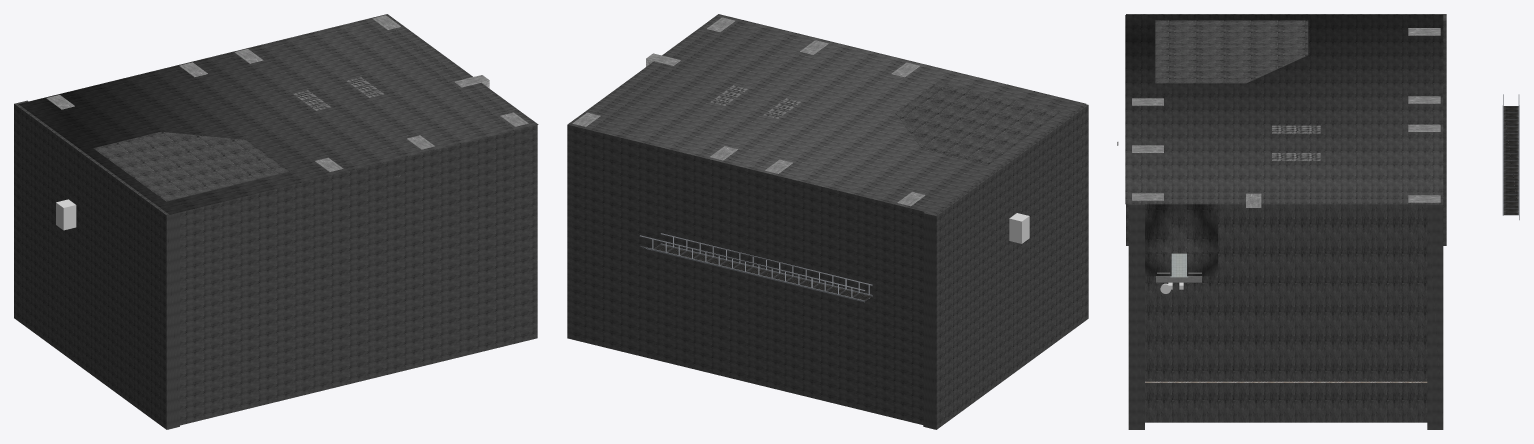
File: scp106nerroom.fbx
3 renders of one model, left to right at view 1: azimuth 30°, elevation 25°; view 2: azimuth 150°, elevation 25°; view 3: azimuth 270°, elevation 25°, orthographic. The views are drawn at different scales.
Visible parts, largest first — view 1: Cube.001, Main, Cube.015, Cube.003, Cube.017; view 2: Cube.002, Main, Cube.015, Cube.003, Main.010, Cube.017; view 3: Main, Cube.003, Cube.002, Cube.001, Main.010, Cube.015, Main.005.
Part boxes in pixels (x1,y1,x2,y2): Cube.001: (180,125,537,425); Main: (18,14,538,214); Cube.015: (14,100,179,429); Cube.003: (93,131,288,201); Cube.017: (56,199,76,230); Cube.002: (567,124,931,424); Main: (568,14,1085,213); Cube.015: (923,104,1088,429); Cube.003: (896,81,1060,164); Main.010: (640,233,872,302); Cube.017: (1009,213,1029,243); Main: (1125,15,1443,422); Cube.003: (1155,20,1308,83); Cube.002: (1427,204,1443,429); Cube.001: (1128,204,1144,429); Main.010: (1502,94,1519,220); Cube.015: (1126,14,1446,245); Main.005: (1117,142,1201,277).
Size of the model in its own units: 6073 by 3091 by 4984.
32 materials, 32 textured.
